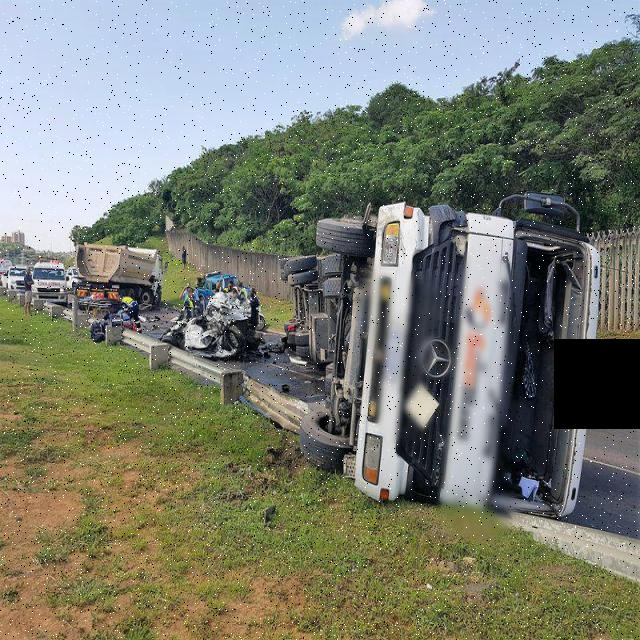severe: (266, 180, 604, 524)
